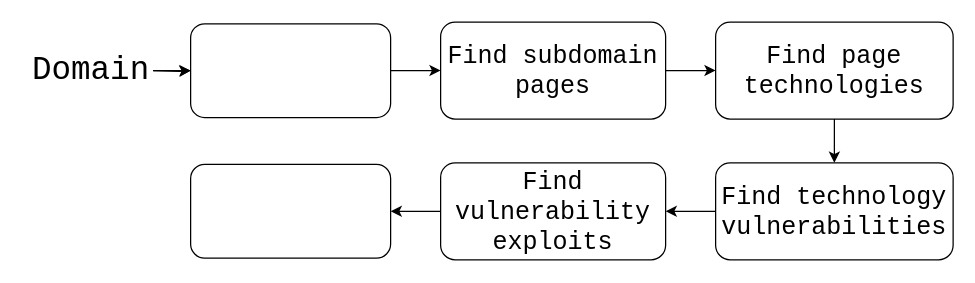
Image size: 975x283. Some labels were removed from this diagram. The centre of each missing label's shape, as x and y in pixels:
"Build a cool Report" belongs at [290,210].
"Find subdomains" belongs at [290,70].
